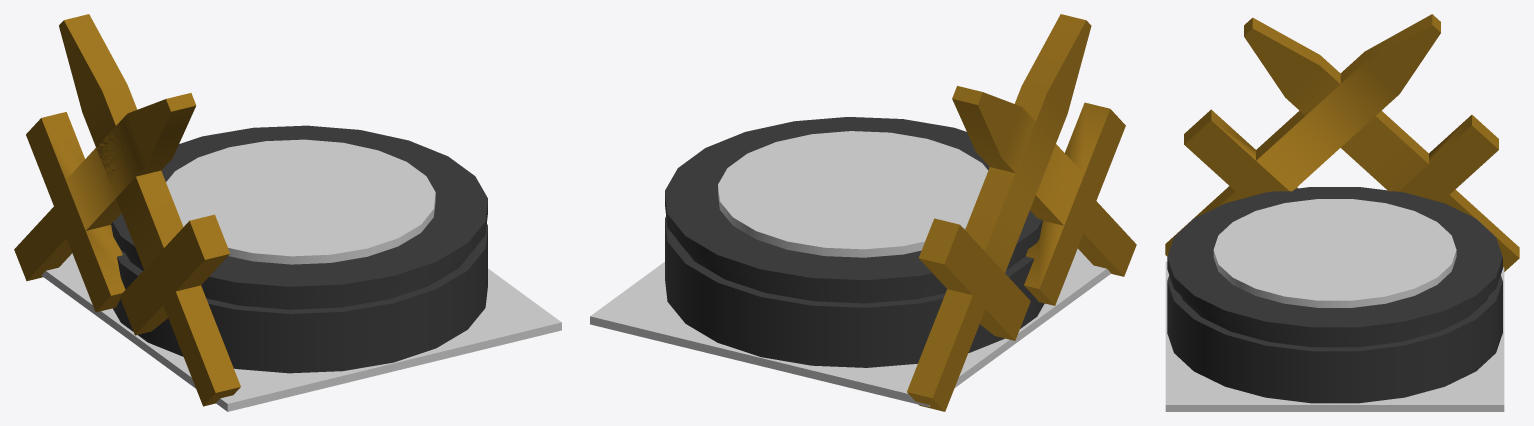
File: WeaponPodium 2.fbx
3 renders of one model, left to right at view 1: azimuth 30°, elevation 25°; view 2: azimuth 150°, elevation 25°; view 3: azimuth 270°, elevation 25°, orthographic. The views are drawn at different scales.
Visible parts, largest first — view 1: Cylinder001, Plane012, Plane013, Box004; view 2: Cylinder001, Plane013, Plane012, Box004; view 3: Cylinder001, Plane012, Plane013, Box004.
Part boxes in pixels (x1,y1,x2,y2): Cylinder001: (111,125,487,373); Plane012: (59,14,240,406); Plane013: (14,93,196,312); Box004: (41,254,561,411); Cylinder001: (665,117,1044,367); Plane013: (907,14,1091,411); Plane012: (952,86,1136,305); Box004: (590,248,1110,406); Cylinder001: (1167,187,1502,403); Plane012: (1165,14,1440,256); Plane013: (1244,17,1519,271); Box004: (1165,261,1504,411).
Size of the model in its own units: 52.03 by 41.39 by 52.43.
